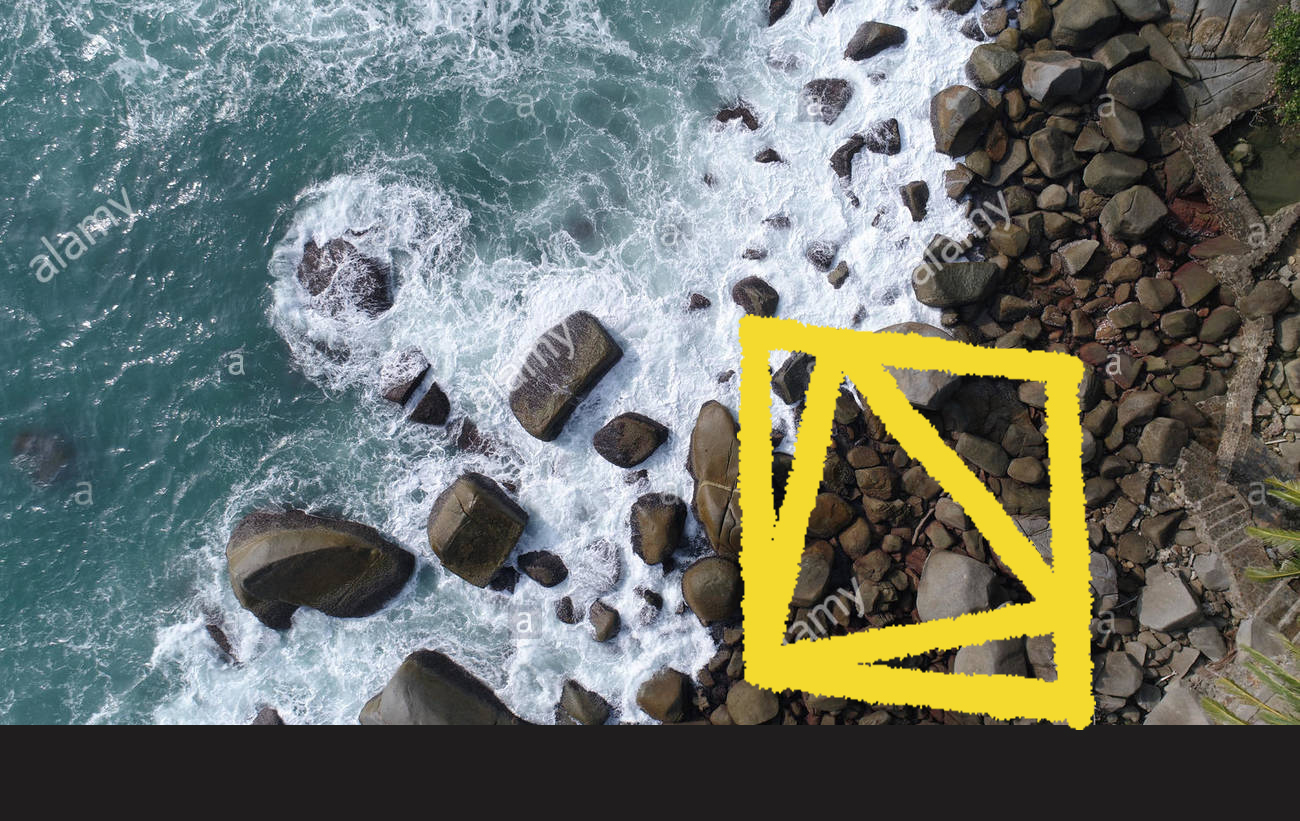marker: (724, 310, 1106, 747)
